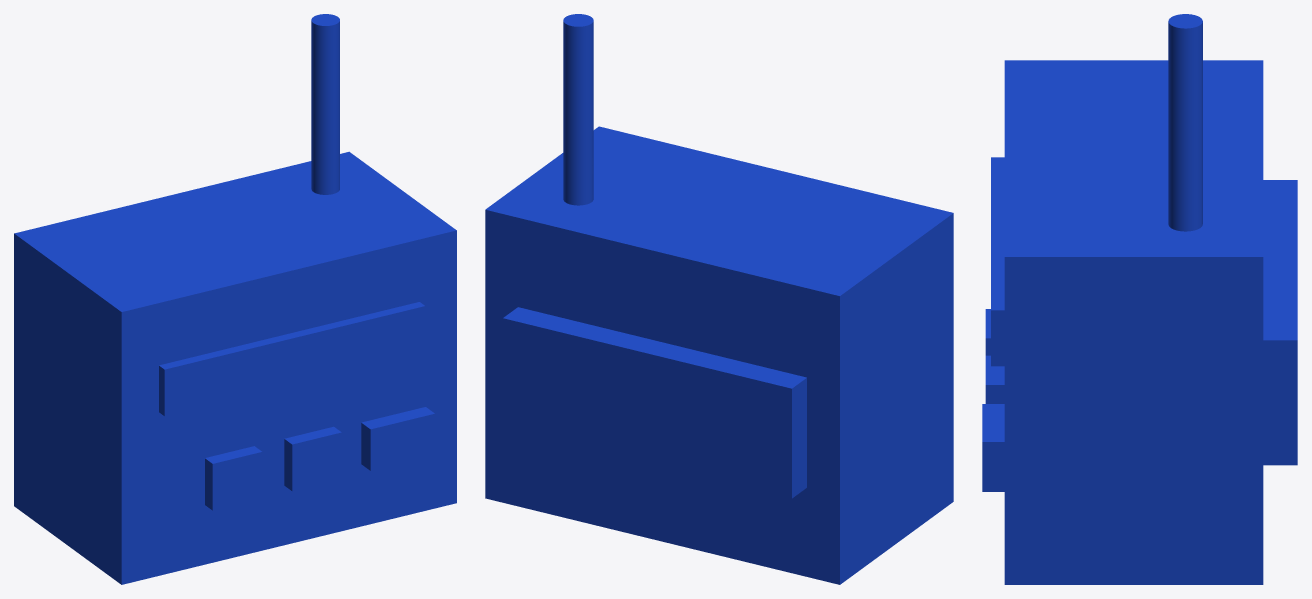
The model's file is PLC-MASTER.glb.
The picture shows the model from 3 angles, left to right: view 1: azimuth 30°, elevation 25°; view 2: azimuth 150°, elevation 25°; view 3: azimuth 270°, elevation 25°; orthographic projection. The views are drawn at different scales.
Visible parts, largest first — view 1: PLC-MASTER; view 2: PLC-MASTER; view 3: PLC-MASTER.
Part boxes in pixels (<box>): PLC-MASTER: <box>14,14,456,584</box>; PLC-MASTER: <box>485,14,953,584</box>; PLC-MASTER: <box>982,14,1297,584</box>.
Bounding box in the file's own units: 0.135 × 0.17 × 0.0915.
